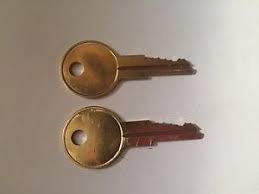kicharina: (54, 105, 206, 170), (56, 38, 200, 100)
